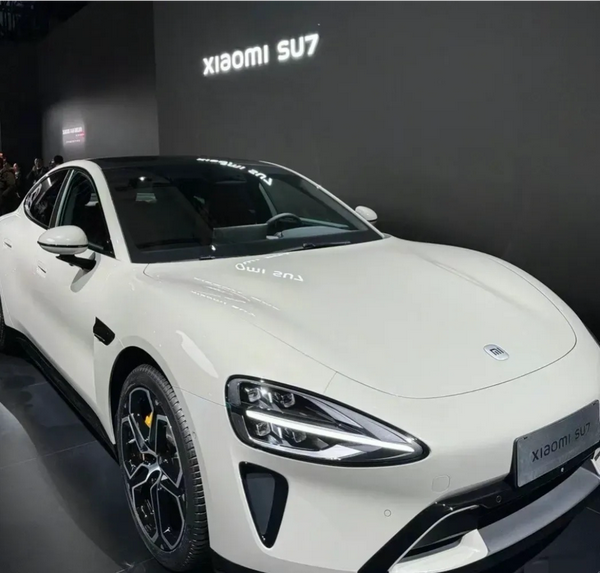su7: (3, 134, 600, 573)
